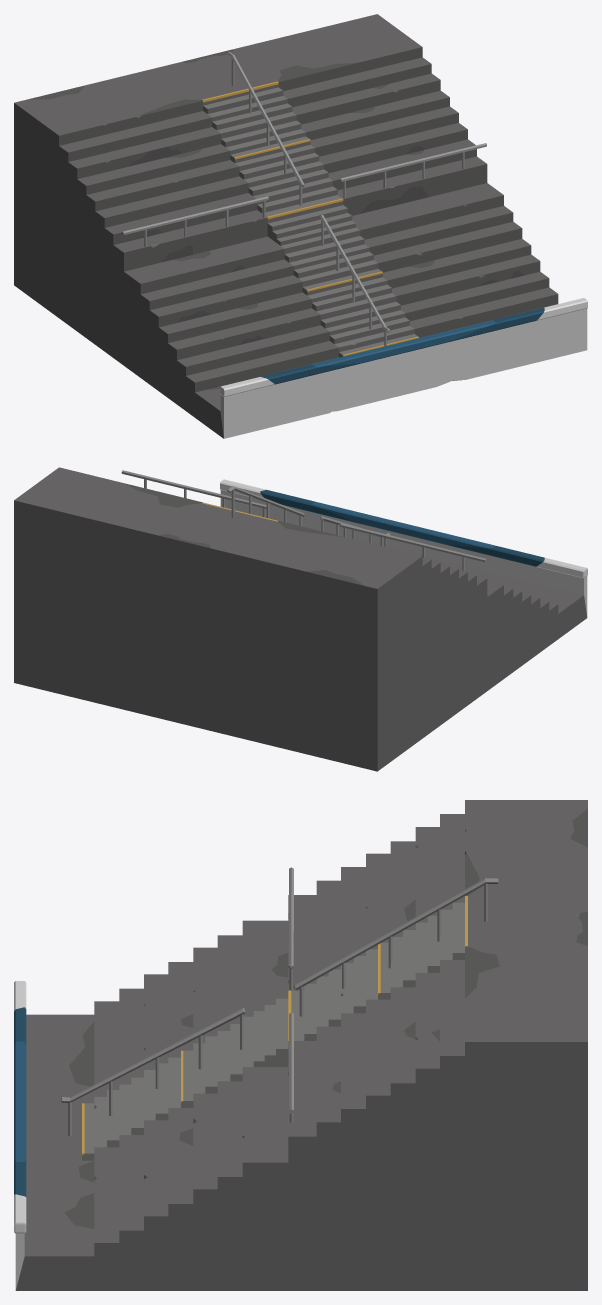
File: SM_Bld_Grandstand_01.fbx
The picture shows the model from 3 angles, top to bottom: view 1: azimuth 30°, elevation 25°; view 2: azimuth 150°, elevation 25°; view 3: azimuth 270°, elevation 25°; orthographic projection. The views are drawn at different scales.
Visible parts, largest first — view 1: SM_Bld_Grandstand_01; view 2: SM_Bld_Grandstand_01; view 3: SM_Bld_Grandstand_01.
Boxes of the visible parts, x1=… form: SM_Bld_Grandstand_01: x1=14, y1=14, x2=587, y2=438; SM_Bld_Grandstand_01: x1=14, y1=467, x2=587, y2=771; SM_Bld_Grandstand_01: x1=14, y1=800, x2=587, y2=1290.
Size of the model in its own units: 1252 by 702 by 1254.
